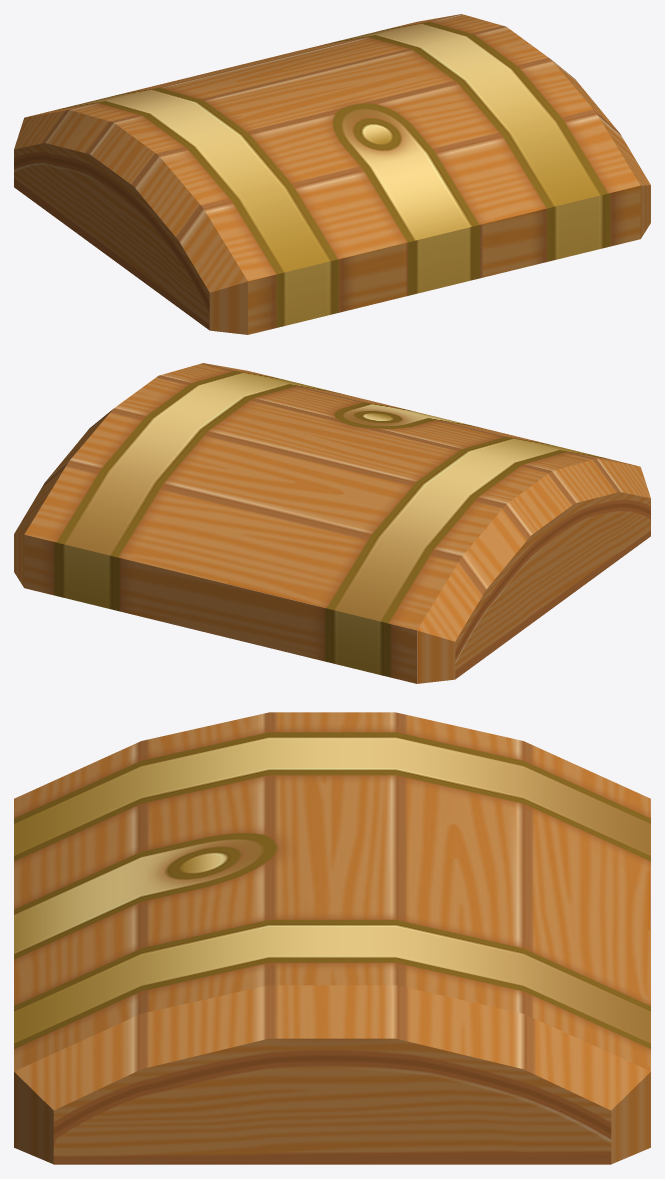
File: chestgold_lid.fbx
3 views of the same model, one above another, from view 1: azimuth 30°, elevation 25°; view 2: azimuth 150°, elevation 25°; view 3: azimuth 270°, elevation 25° (orthographic). The views are drawn at different scales.
Parts seen in each view (by area): view 1: lid; view 2: lid; view 3: lid.
Boxes of the visible parts, x1,y1,x2,y2 form: lid: (14, 14, 650, 334); lid: (14, 363, 650, 683); lid: (14, 712, 650, 1164).
Bounding box in the file's own units: 99.87 × 24.69 × 87.75.
1 material, 1 textured.
